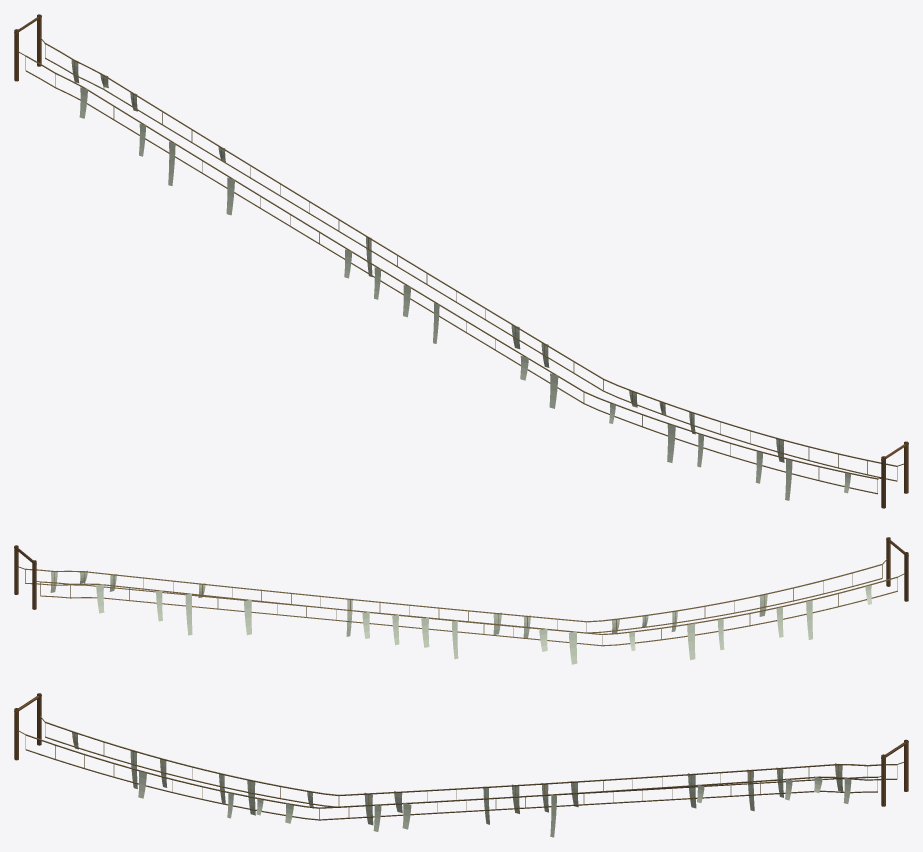
Rendered from SM_Bridge_12_13_Rails.fbx.
3 views of the same model, one above another, from view 1: azimuth 90°, elevation 25°; view 2: azimuth 150°, elevation 25°; view 3: azimuth 270°, elevation 25° (orthographic). The views are drawn at different scales.
Parts seen in each view (by area): view 1: SM_Bridge_12_13_Rails; view 2: SM_Bridge_12_13_Rails; view 3: SM_Bridge_12_13_Rails.
Boxes of the visible parts, x1,y1,x2,y2 form: SM_Bridge_12_13_Rails: [14, 14, 908, 508]; SM_Bridge_12_13_Rails: [14, 537, 908, 664]; SM_Bridge_12_13_Rails: [14, 693, 908, 837].
Size of the model in its own units: 40.53 by 19.27 by 60.29.
